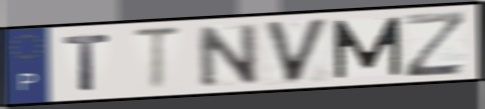M: (330, 15, 404, 81)
N: (194, 21, 262, 89)
T: (130, 25, 186, 93), (61, 32, 114, 93)
V: (261, 16, 332, 86)
Z: (402, 9, 470, 80)
